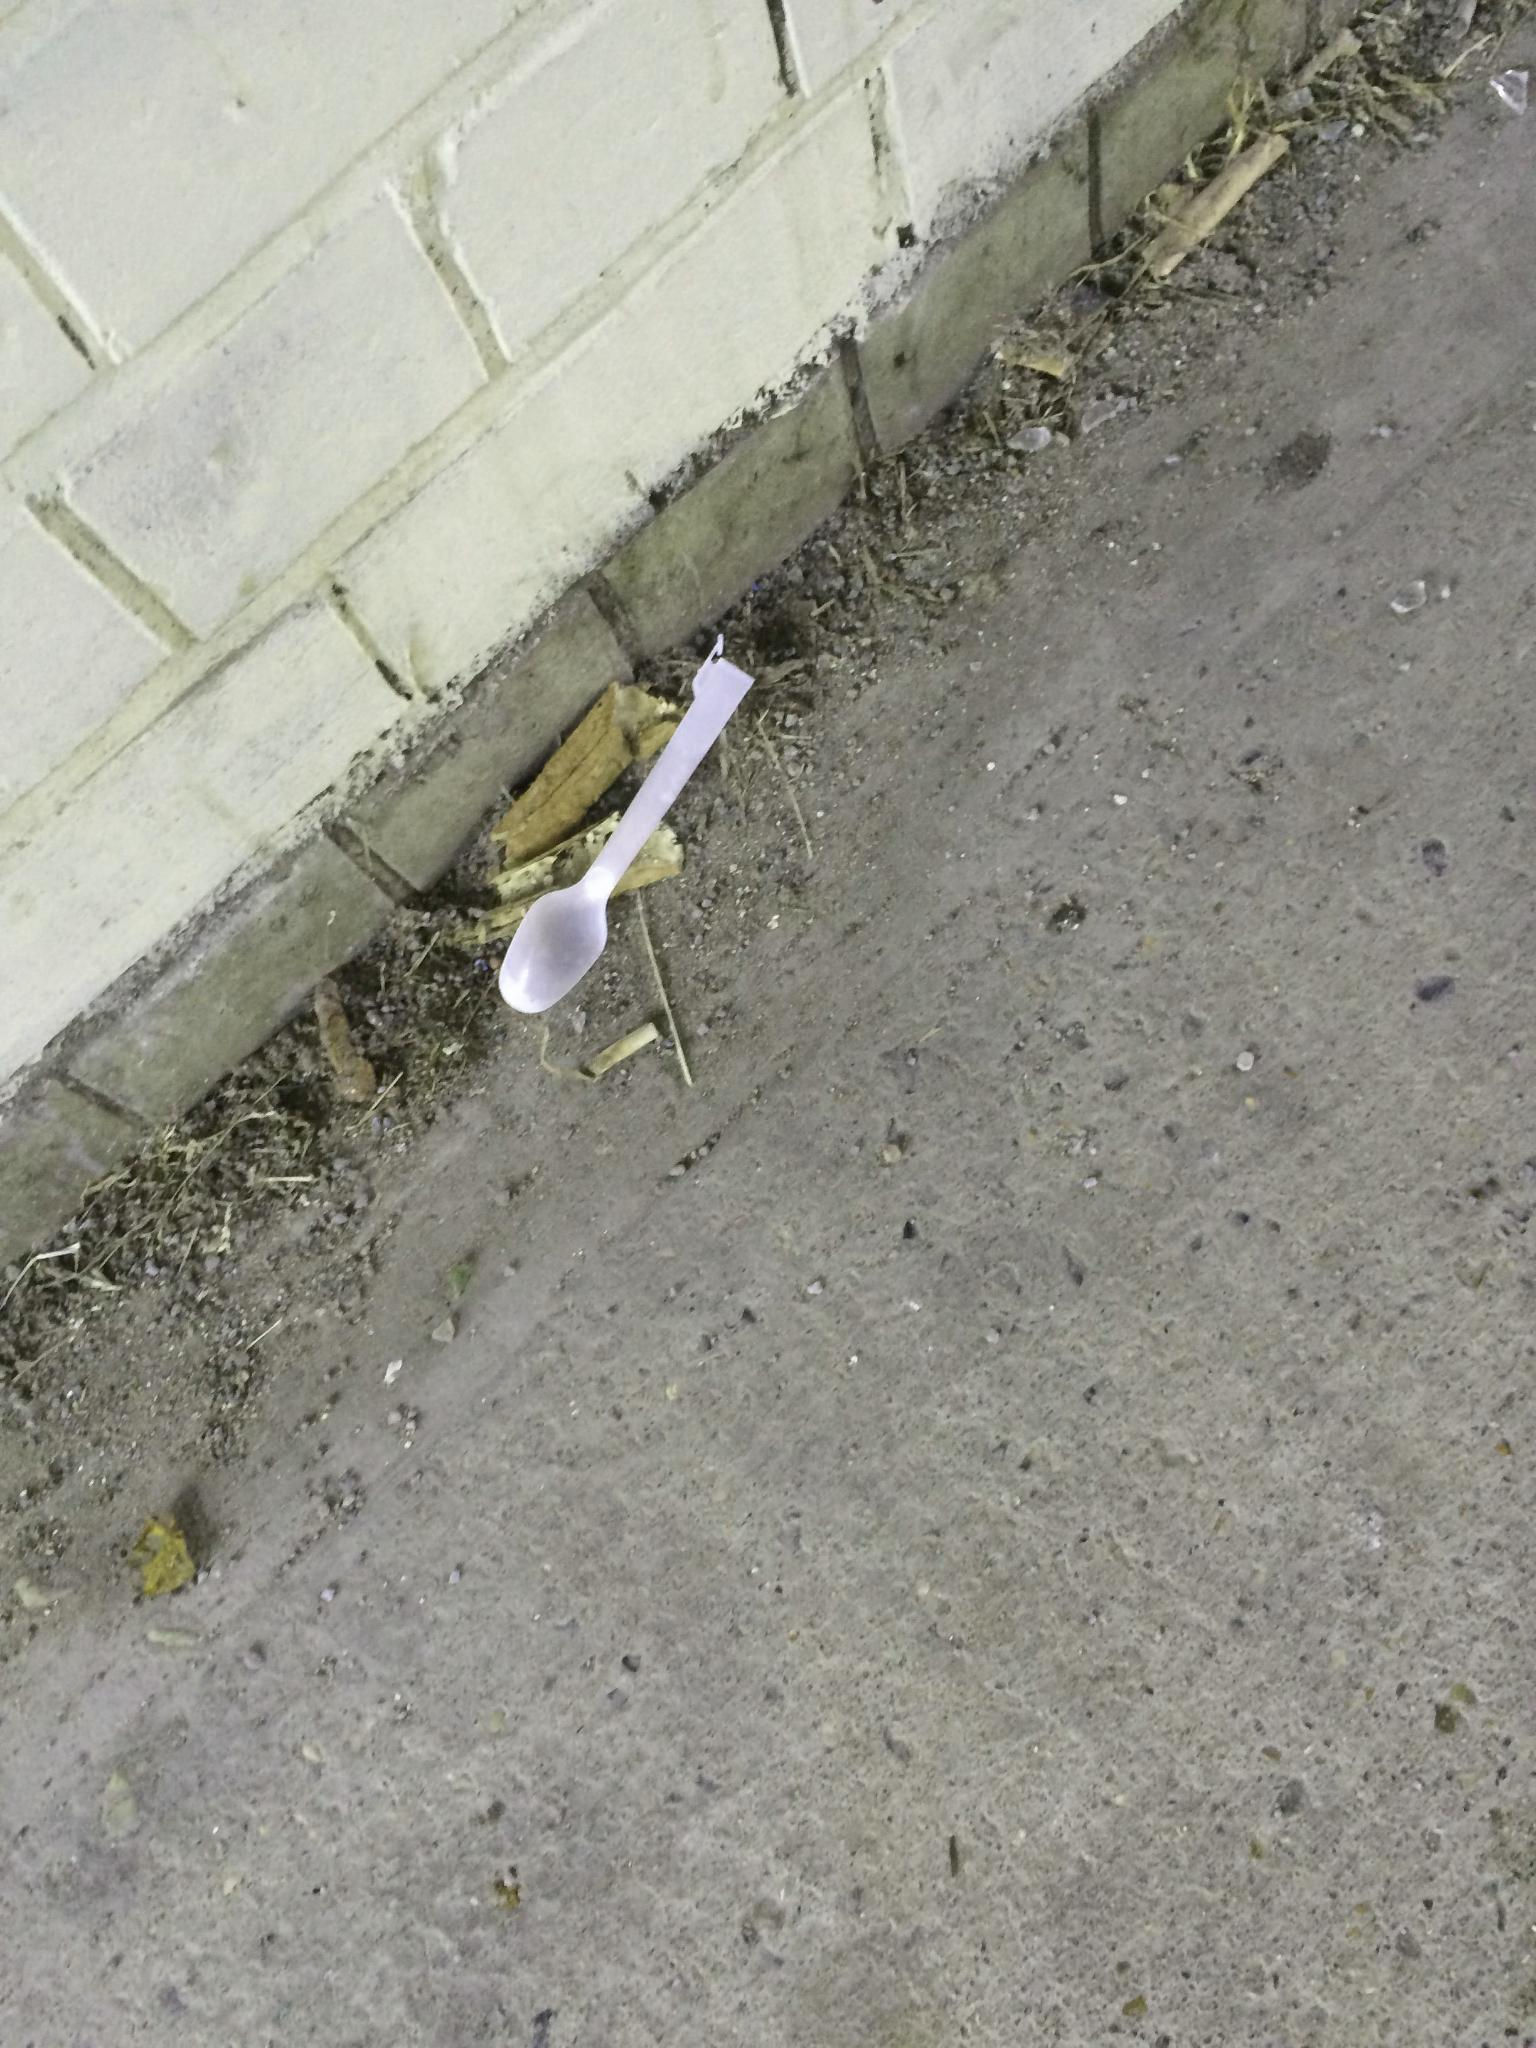Plastic: (476, 650, 773, 1029)
